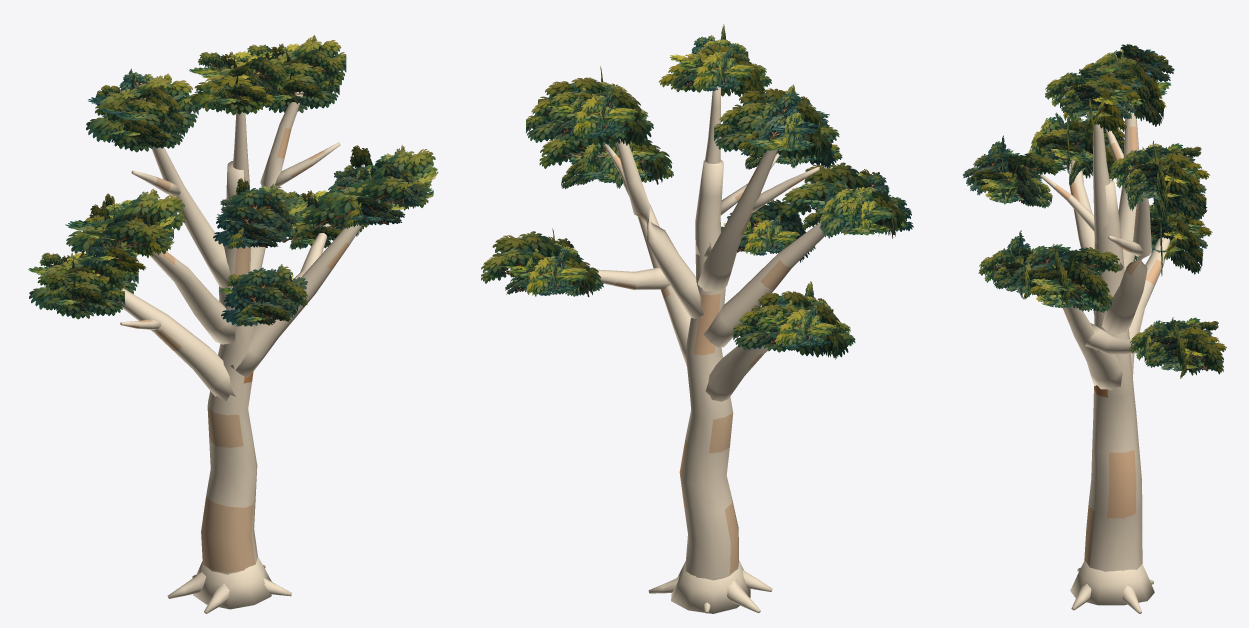
Rendered from TREE_EUCALYPTUS_001_v007_LOD_CLOSE.glb.
The picture shows the model from 3 angles, left to right: view 1: azimuth 30°, elevation 25°; view 2: azimuth 150°, elevation 25°; view 3: azimuth 270°, elevation 25°; orthographic projection. The views are drawn at different scales.
Visible parts, largest first — view 1: TREE_EUCALYPTUS_001_CLOSE_AUTHORED_FOLIAGE_ISLANDS, TREE_EUCALYPTUS_001_CLOSE_MAIN_TRUNK, TREE_EUCALYPTUS_001_CLOSE_LOWER_LEFT_SWEEP, TREE_EUCALYPTUS_001_CLOSE_MID_RIGHT_SWEEP, TREE_EUCALYPTUS_001_CLOSE_MID_LEFT_ARCH, TREE_EUCALYPTUS_001_CLOSE_UPPER_LEFT_FORK, TREE_EUCALYPTUS_001_CLOSE_SCULPTED_ROOT_COLLAR, TREE_EUCALYPTUS_001_CLOSE_UPPER_RIGHT_ARCH, TREE_EUCALYPTUS_001_CLOSE_CENTRAL_CROWN_FORK, TREE_EUCALYPTUS_001_CLOSE_RIGHT_TOP_SUPPORT; view 2: TREE_EUCALYPTUS_001_CLOSE_AUTHORED_FOLIAGE_ISLANDS, TREE_EUCALYPTUS_001_CLOSE_MAIN_TRUNK, TREE_EUCALYPTUS_001_CLOSE_UPPER_RIGHT_ARCH, TREE_EUCALYPTUS_001_CLOSE_MID_LEFT_ARCH, TREE_EUCALYPTUS_001_CLOSE_UPPER_LEFT_FORK, TREE_EUCALYPTUS_001_CLOSE_SCULPTED_ROOT_COLLAR, TREE_EUCALYPTUS_001_CLOSE_LOWER_LEFT_SWEEP, TREE_EUCALYPTUS_001_CLOSE_MID_RIGHT_SWEEP, TREE_EUCALYPTUS_001_CLOSE_LOWER_RIGHT_REACH, TREE_EUCALYPTUS_001_CLOSE_CENTRAL_CROWN_FORK, TREE_EUCALYPTUS_001_CLOSE_LEFT_TOP_SUPPORT; view 3: TREE_EUCALYPTUS_001_CLOSE_AUTHORED_FOLIAGE_ISLANDS, TREE_EUCALYPTUS_001_CLOSE_MAIN_TRUNK, TREE_EUCALYPTUS_001_CLOSE_UPPER_RIGHT_ARCH, TREE_EUCALYPTUS_001_CLOSE_SCULPTED_ROOT_COLLAR, TREE_EUCALYPTUS_001_CLOSE_MID_RIGHT_SWEEP, TREE_EUCALYPTUS_001_CLOSE_CENTRAL_CROWN_FORK, TREE_EUCALYPTUS_001_CLOSE_UPPER_LEFT_FORK, TREE_EUCALYPTUS_001_CLOSE_LOWER_LEFT_SWEEP, TREE_EUCALYPTUS_001_CLOSE_MID_LEFT_ARCH, TREE_EUCALYPTUS_001_CLOSE_LOWER_RIGHT_REACH, TREE_EUCALYPTUS_001_CLOSE_CENTRE_BACK_SUPPORT.
Boxes of the visible parts, bbox=[...] form: TREE_EUCALYPTUS_001_CLOSE_AUTHORED_FOLIAGE_ISLANDS: bbox=[28, 35, 438, 326]; TREE_EUCALYPTUS_001_CLOSE_MAIN_TRUNK: bbox=[201, 161, 257, 574]; TREE_EUCALYPTUS_001_CLOSE_LOWER_LEFT_SWEEP: bbox=[117, 288, 235, 401]; TREE_EUCALYPTUS_001_CLOSE_MID_RIGHT_SWEEP: bbox=[230, 223, 362, 377]; TREE_EUCALYPTUS_001_CLOSE_MID_LEFT_ARCH: bbox=[149, 251, 235, 344]; TREE_EUCALYPTUS_001_CLOSE_UPPER_LEFT_FORK: bbox=[152, 146, 230, 288]; TREE_EUCALYPTUS_001_CLOSE_SCULPTED_ROOT_COLLAR: bbox=[193, 557, 271, 609]; TREE_EUCALYPTUS_001_CLOSE_UPPER_RIGHT_ARCH: bbox=[250, 82, 303, 271]; TREE_EUCALYPTUS_001_CLOSE_CENTRAL_CROWN_FORK: bbox=[233, 112, 250, 190]; TREE_EUCALYPTUS_001_CLOSE_RIGHT_TOP_SUPPORT: bbox=[274, 142, 340, 187]; TREE_EUCALYPTUS_001_CLOSE_AUTHORED_FOLIAGE_ISLANDS: bbox=[481, 24, 913, 359]; TREE_EUCALYPTUS_001_CLOSE_MAIN_TRUNK: bbox=[679, 160, 738, 580]; TREE_EUCALYPTUS_001_CLOSE_UPPER_RIGHT_ARCH: bbox=[615, 138, 703, 318]; TREE_EUCALYPTUS_001_CLOSE_MID_LEFT_ARCH: bbox=[703, 222, 824, 347]; TREE_EUCALYPTUS_001_CLOSE_UPPER_LEFT_FORK: bbox=[697, 149, 777, 292]; TREE_EUCALYPTUS_001_CLOSE_SCULPTED_ROOT_COLLAR: bbox=[671, 560, 750, 613]; TREE_EUCALYPTUS_001_CLOSE_LOWER_LEFT_SWEEP: bbox=[705, 345, 767, 401]; TREE_EUCALYPTUS_001_CLOSE_MID_RIGHT_SWEEP: bbox=[615, 167, 690, 366]; TREE_EUCALYPTUS_001_CLOSE_LOWER_RIGHT_REACH: bbox=[592, 268, 670, 289]; TREE_EUCALYPTUS_001_CLOSE_CENTRAL_CROWN_FORK: bbox=[695, 86, 721, 256]; TREE_EUCALYPTUS_001_CLOSE_LEFT_TOP_SUPPORT: bbox=[751, 166, 819, 212]; TREE_EUCALYPTUS_001_CLOSE_AUTHORED_FOLIAGE_ISLANDS: bbox=[963, 44, 1226, 378]; TREE_EUCALYPTUS_001_CLOSE_MAIN_TRUNK: bbox=[1084, 179, 1142, 571]; TREE_EUCALYPTUS_001_CLOSE_UPPER_RIGHT_ARCH: bbox=[1101, 182, 1151, 334]; TREE_EUCALYPTUS_001_CLOSE_SCULPTED_ROOT_COLLAR: bbox=[1070, 560, 1154, 605]; TREE_EUCALYPTUS_001_CLOSE_MID_RIGHT_SWEEP: bbox=[1063, 305, 1122, 390]; TREE_EUCALYPTUS_001_CLOSE_CENTRAL_CROWN_FORK: bbox=[1093, 120, 1123, 271]; TREE_EUCALYPTUS_001_CLOSE_UPPER_LEFT_FORK: bbox=[1118, 104, 1138, 271]; TREE_EUCALYPTUS_001_CLOSE_LOWER_LEFT_SWEEP: bbox=[1129, 237, 1170, 376]; TREE_EUCALYPTUS_001_CLOSE_MID_LEFT_ARCH: bbox=[1069, 159, 1129, 338]; TREE_EUCALYPTUS_001_CLOSE_LOWER_RIGHT_REACH: bbox=[1085, 323, 1155, 354]; TREE_EUCALYPTUS_001_CLOSE_CENTRE_BACK_SUPPORT: bbox=[1040, 174, 1094, 231].
Size of the model in its own units: 9.62 by 13.95 by 6.58.
5 materials, 1 textured.
